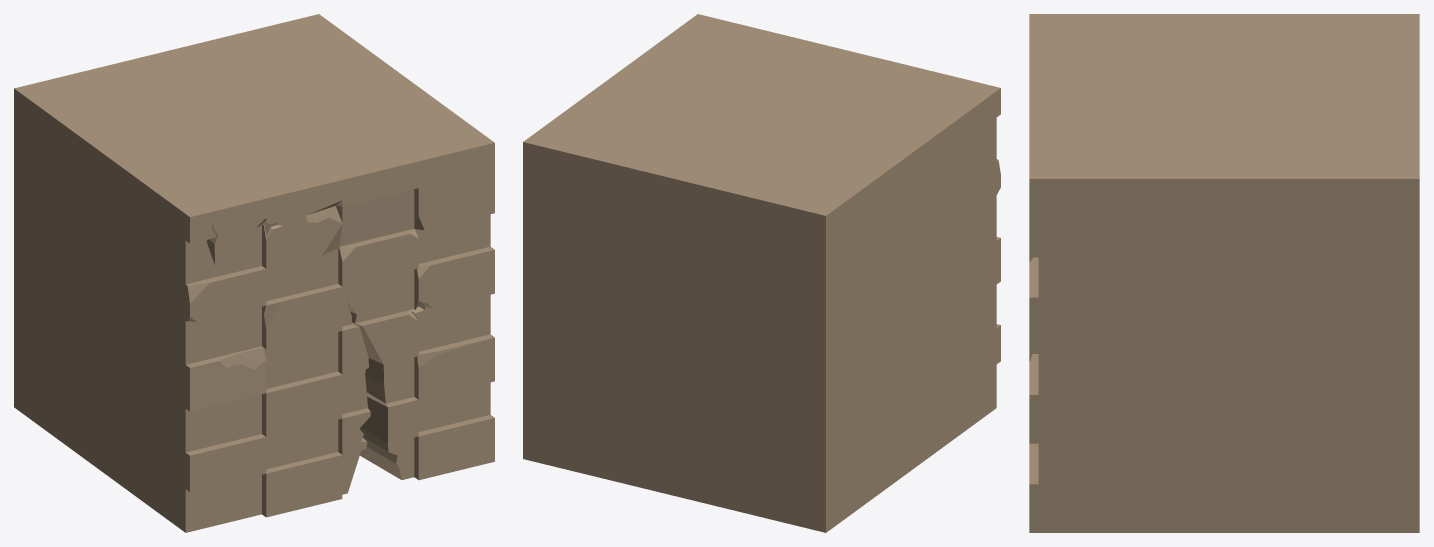
Rendered from outerWall_broken1.fbx.
The picture shows the model from 3 angles, left to right: view 1: azimuth 30°, elevation 25°; view 2: azimuth 150°, elevation 25°; view 3: azimuth 270°, elevation 25°; orthographic projection. The views are drawn at different scales.
Parts seen in each view (by area): view 1: outerWall_broken1; view 2: outerWall_broken1; view 3: outerWall_broken1.
Part boxes in pixels (x1,y1,x2,y2): outerWall_broken1: (14, 14, 494, 532); outerWall_broken1: (523, 14, 1000, 532); outerWall_broken1: (1029, 14, 1419, 532).
Bounding box in the file's own units: 400 × 400 × 400.
